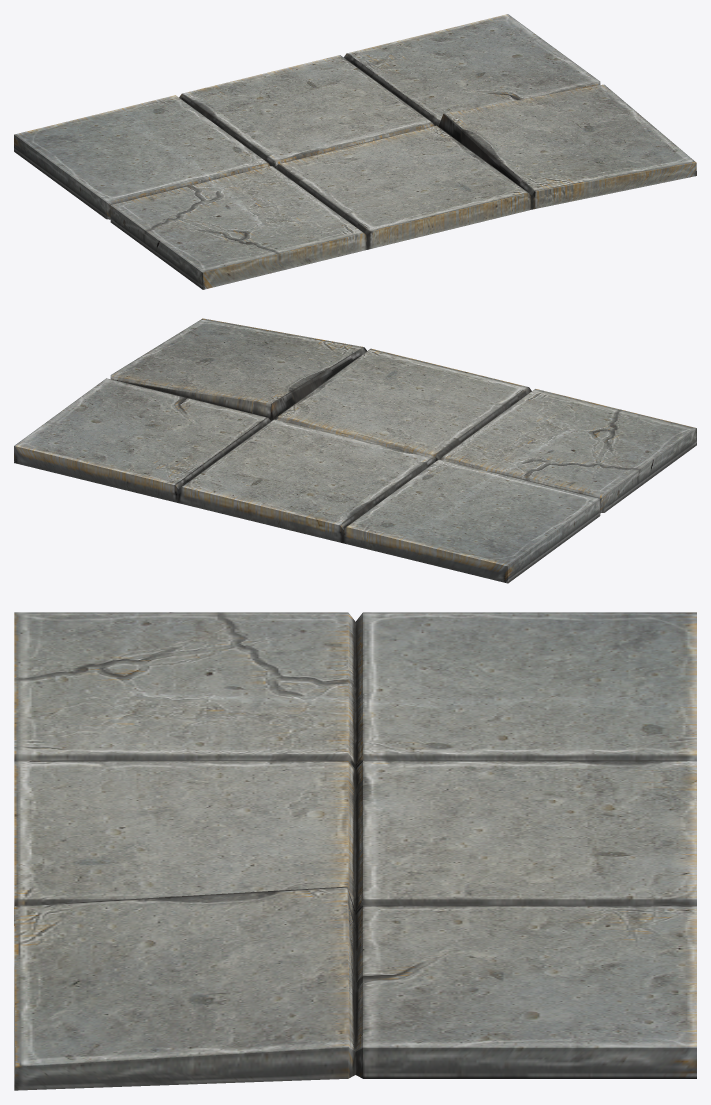
The model's file is pavementB.FBX.
3 renders of one model, top to bottom at view 1: azimuth 30°, elevation 25°; view 2: azimuth 150°, elevation 25°; view 3: azimuth 270°, elevation 25°, orthographic. The views are drawn at different scales.
Visible parts, largest first — view 1: pavementB; view 2: pavementB; view 3: pavementB.
Boxes of the visible parts, x1,y1,x2,y2 form: pavementB: (14,14,696,289); pavementB: (14,318,696,583); pavementB: (14,612,696,1090).
Bounding box in the file's own units: 90.58 × 5.99 × 60.03.
1 material, 1 textured.
